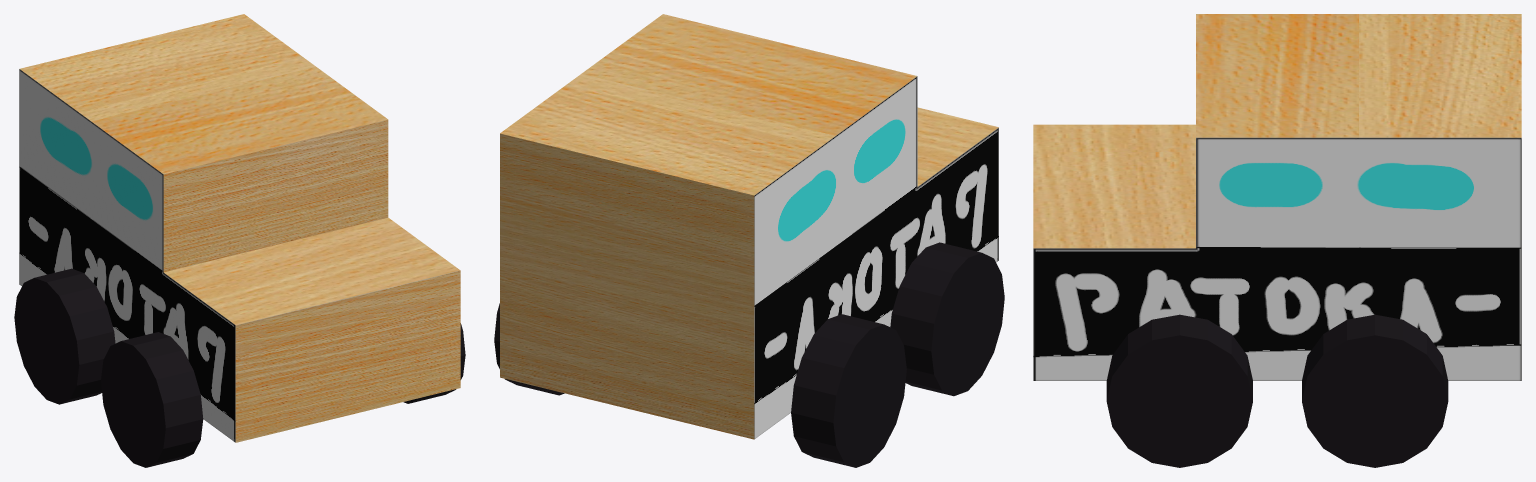
Rendered from car_0828_1.fbx.
3 views of the same model, side by side, from view 1: azimuth 30°, elevation 25°; view 2: azimuth 150°, elevation 25°; view 3: azimuth 270°, elevation 25° (orthographic). The views are drawn at different scales.
Visible parts, largest first — view 1: 立方体, 立方体.001; view 2: 立方体, 立方体.001; view 3: 立方体, 立方体.001.
Boxes of the visible parts, x1=… form: 立方体: x1=14, y1=14, x2=465, y2=467; 立方体.001: x1=19, y1=69, x2=235, y2=442; 立方体: x1=494, y1=14, x2=1004, y2=467; 立方体.001: x1=754, y1=76, x2=998, y2=439; 立方体: x1=1033, y1=14, x2=1521, y2=467; 立方体.001: x1=1033, y1=137, x2=1521, y2=380.
Bounding box in the file's own units: 160 × 140 × 200.
